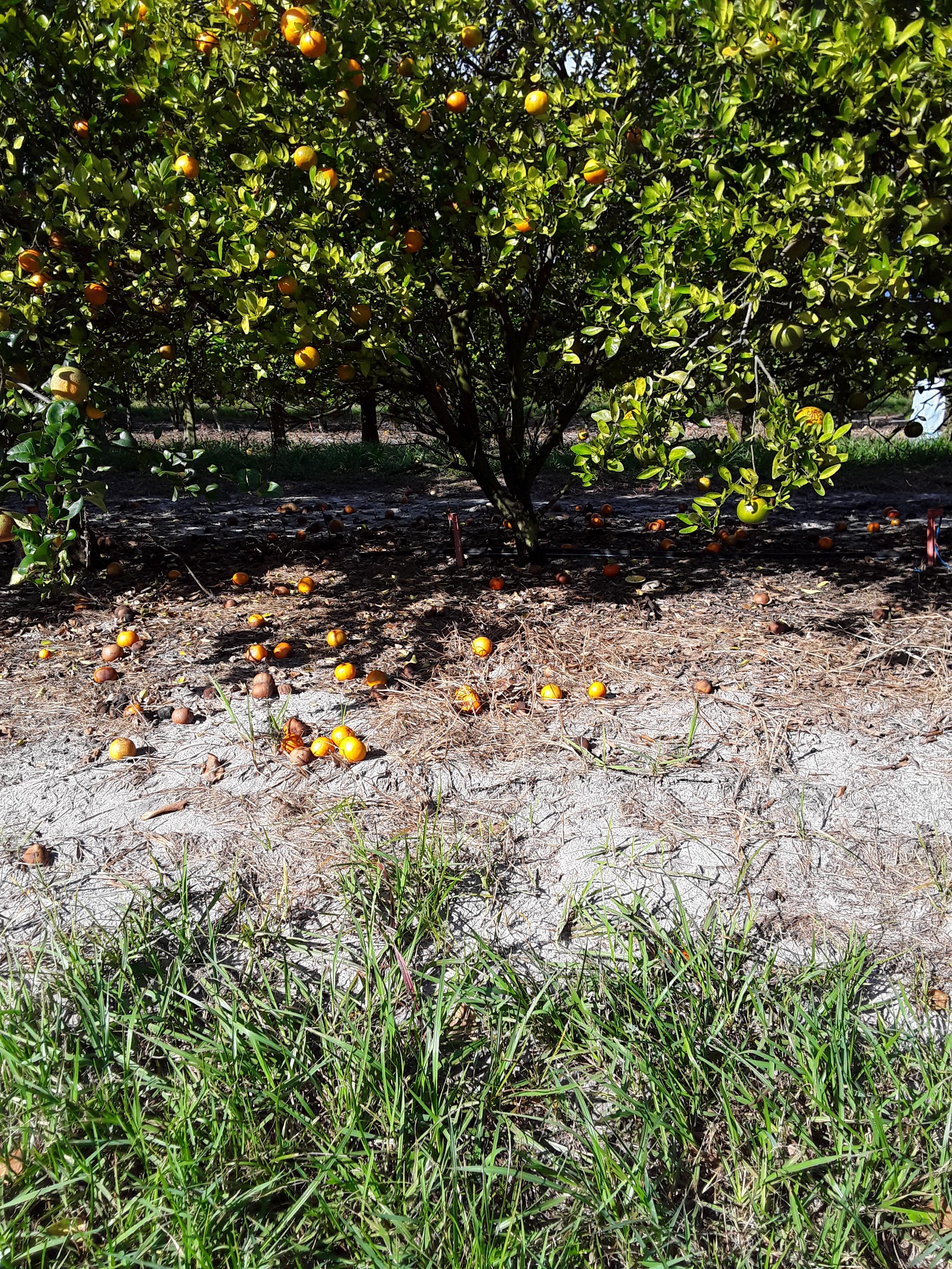fruit_on_ground: (911, 197, 952, 237), (50, 366, 89, 405), (279, 5, 312, 46), (792, 406, 829, 437), (769, 322, 806, 353), (749, 28, 781, 63), (737, 496, 772, 526), (334, 59, 364, 92), (229, 2, 260, 32), (705, 158, 735, 187), (632, 432, 660, 463), (292, 346, 324, 371), (298, 30, 326, 58), (329, 87, 357, 115), (512, 206, 538, 236), (406, 107, 432, 133), (583, 158, 609, 184), (194, 31, 222, 55), (27, 271, 55, 295), (19, 249, 48, 272), (294, 145, 319, 171), (400, 228, 426, 253), (83, 282, 109, 307), (175, 155, 200, 180), (524, 91, 550, 115), (445, 89, 469, 113), (348, 304, 373, 327), (126, 0, 152, 22), (460, 25, 483, 49), (0, 514, 19, 543), (252, 30, 277, 52), (216, 0, 248, 17), (116, 86, 144, 105), (371, 167, 395, 189), (317, 168, 338, 191), (277, 274, 299, 295), (848, 391, 871, 411), (512, 253, 535, 273), (397, 55, 417, 77), (72, 118, 94, 138), (627, 127, 649, 146), (151, 297, 173, 315), (48, 231, 68, 250), (338, 362, 356, 381), (85, 406, 107, 421), (397, 304, 415, 322), (0, 306, 12, 333), (159, 345, 178, 361), (697, 474, 713, 492), (583, 241, 602, 256), (103, 256, 121, 271), (263, 248, 279, 262)
fruit_on_tree: (338, 735, 367, 764), (108, 735, 138, 762), (22, 842, 51, 866), (330, 723, 357, 747), (310, 735, 336, 758), (460, 692, 483, 717), (282, 716, 307, 739), (288, 745, 314, 767), (471, 636, 495, 658), (366, 668, 388, 692), (453, 683, 478, 704), (101, 643, 125, 664), (171, 706, 196, 726), (92, 667, 121, 684), (116, 629, 140, 649), (334, 663, 358, 683), (280, 736, 306, 753), (252, 673, 276, 690), (540, 683, 564, 700), (327, 629, 347, 648), (571, 736, 591, 755), (246, 645, 268, 662), (588, 680, 606, 700), (691, 678, 713, 694), (274, 642, 294, 659), (769, 620, 791, 635), (297, 577, 317, 593), (123, 704, 145, 718), (251, 683, 271, 698), (510, 701, 530, 716), (752, 592, 773, 606), (156, 706, 176, 720), (95, 699, 112, 715), (248, 614, 266, 629), (489, 576, 505, 592), (107, 562, 124, 577), (603, 563, 621, 577), (201, 687, 220, 700), (109, 703, 124, 719), (232, 572, 249, 586), (872, 608, 889, 622), (117, 607, 135, 619), (329, 519, 344, 533), (271, 586, 290, 597), (114, 605, 132, 616), (276, 684, 294, 695), (735, 528, 749, 542), (437, 605, 452, 618), (114, 693, 130, 705), (661, 539, 676, 551), (529, 565, 544, 577), (38, 648, 53, 660), (320, 555, 337, 565), (834, 521, 848, 533), (819, 537, 833, 549), (424, 605, 438, 617), (867, 522, 882, 533), (222, 598, 237, 609), (655, 519, 667, 532), (576, 430, 590, 441), (168, 569, 182, 580), (555, 573, 569, 584), (130, 641, 147, 650), (707, 543, 722, 553), (718, 528, 730, 540), (726, 535, 738, 547), (882, 506, 895, 517), (294, 530, 307, 541), (558, 574, 570, 585), (887, 509, 900, 519), (648, 522, 662, 531), (268, 532, 279, 543), (602, 503, 612, 515), (591, 512, 603, 522), (593, 517, 604, 527), (560, 543, 573, 551), (384, 510, 395, 519), (345, 505, 357, 513), (464, 518, 476, 526), (890, 518, 902, 526), (502, 518, 509, 528), (574, 505, 583, 512), (508, 521, 513, 529)
